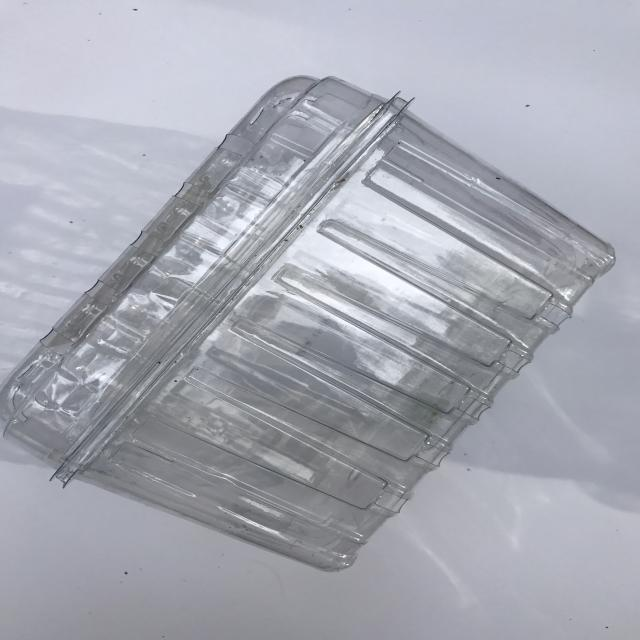plastic: (0, 73, 618, 572)
